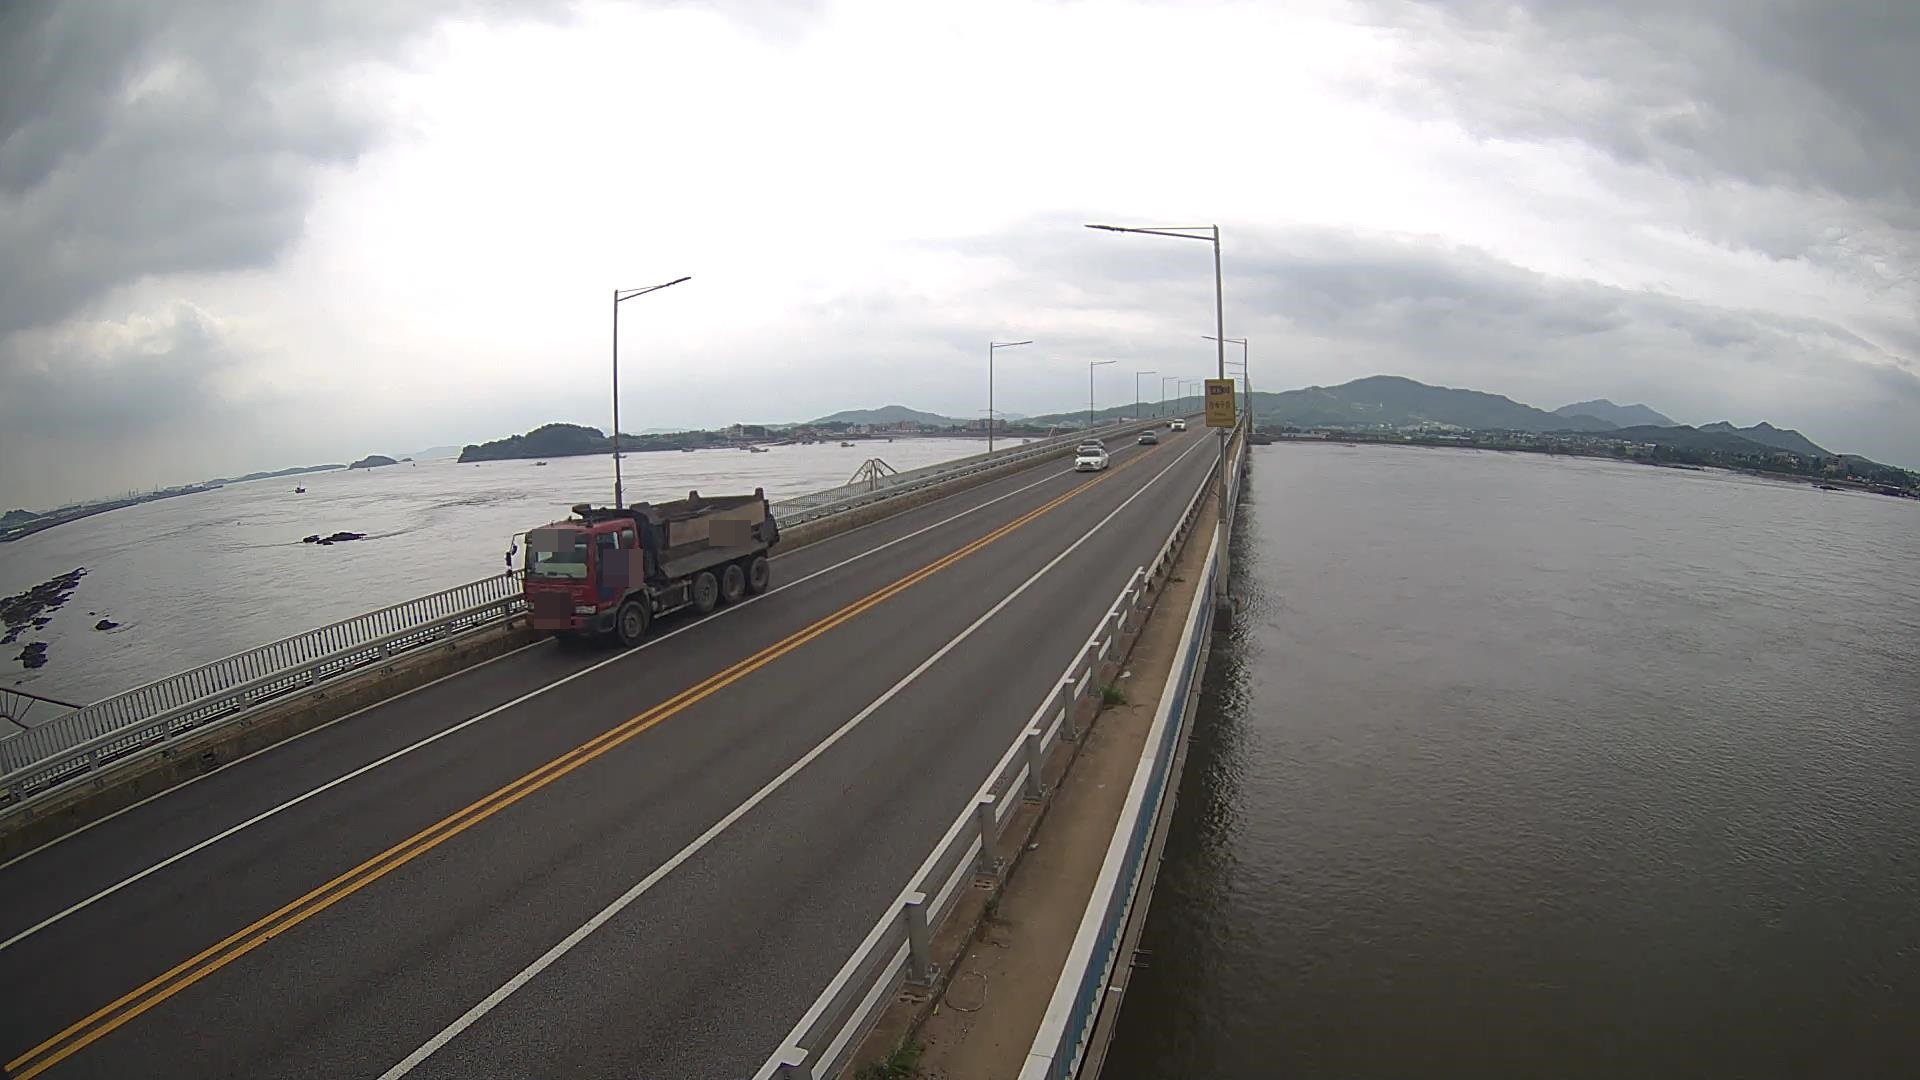정상차량: (505, 488, 781, 649)
